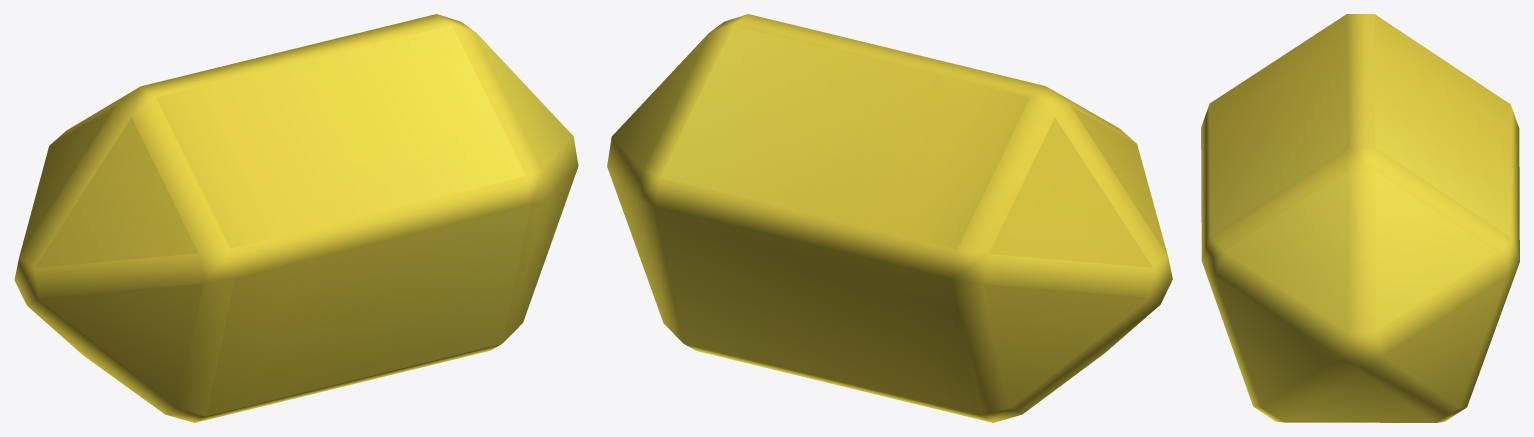
File: christal_topaz_4.fbx
The picture shows the model from 3 angles, left to right: view 1: azimuth 30°, elevation 25°; view 2: azimuth 150°, elevation 25°; view 3: azimuth 270°, elevation 25°; orthographic projection. The views are drawn at different scales.
Visible parts, largest first — view 1: christal_topaz_4; view 2: christal_topaz_4; view 3: christal_topaz_4.
Part boxes in pixels (x1,y1,x2,y2): christal_topaz_4: (14,14,578,422); christal_topaz_4: (607,14,1172,422); christal_topaz_4: (1201,14,1519,422).
Bounding box in the file's own units: 64.69 × 34.12 × 35.88.
Materials: 1 (1 with a texture image).
